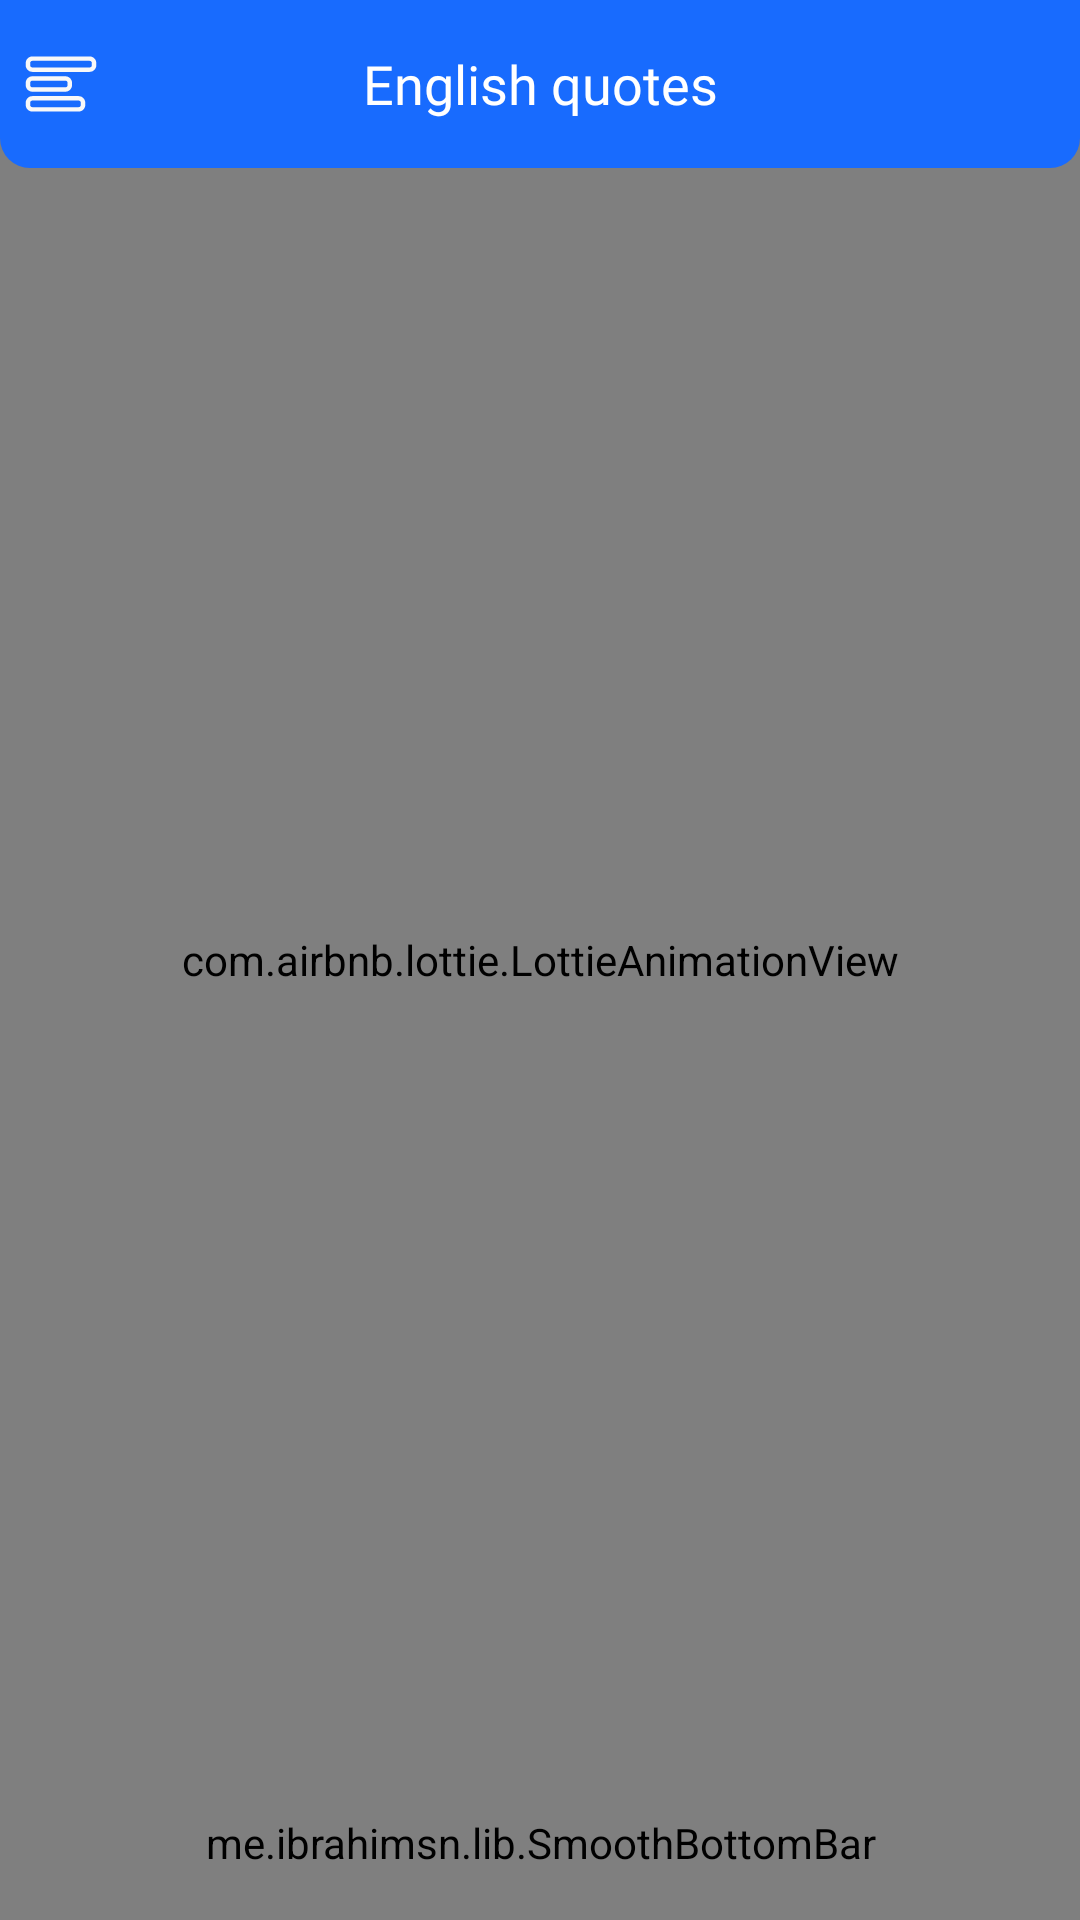

Icons on this 1080x1920 Android screen, each with its box as (x1, y1, x2, y2):
quote menu: (25, 56, 97, 112)
